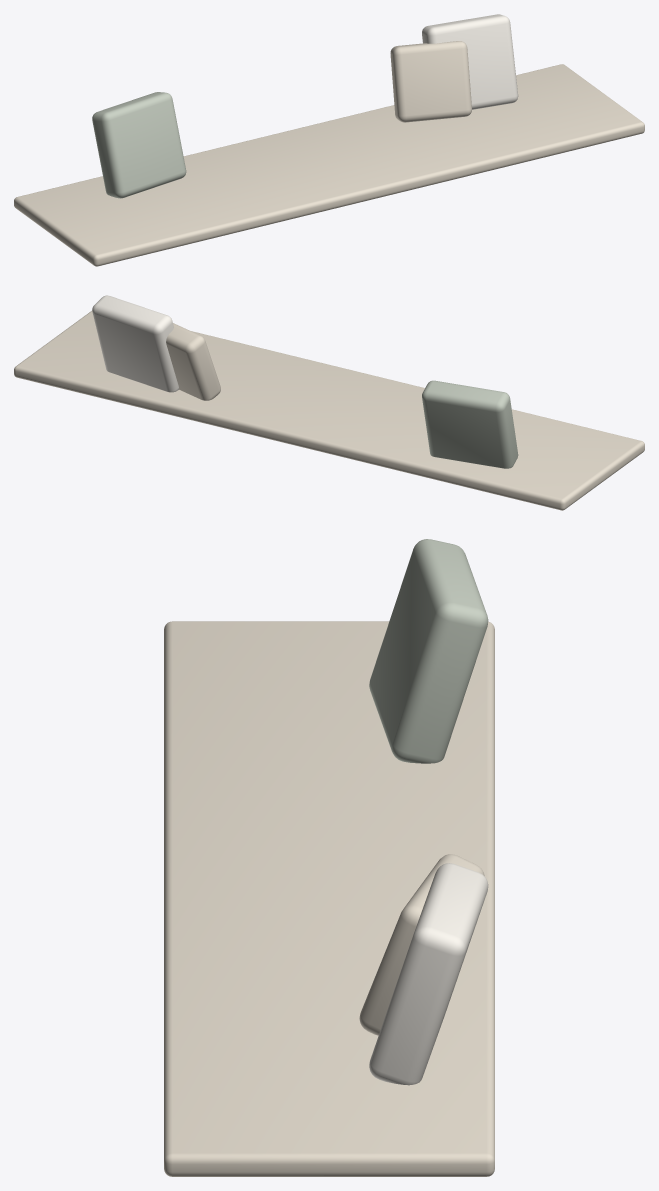
Rendered from mo_bay_cushion.glb.
The picture shows the model from 3 angles, top to bottom: view 1: azimuth 30°, elevation 25°; view 2: azimuth 150°, elevation 25°; view 3: azimuth 270°, elevation 25°; orthographic projection. The views are drawn at different scales.
Visible parts, largest first — view 1: pad, c1, c3, c2; view 2: pad, c1, c2, c3; view 3: pad, c1, c2, c3.
Boxes of the visible parts, bbox=[...] form: pad: bbox=[14, 64, 644, 266]; c1: bbox=[92, 92, 186, 198]; c3: bbox=[390, 41, 471, 122]; c2: bbox=[422, 14, 518, 109]; pad: bbox=[14, 310, 644, 510]; c1: bbox=[422, 380, 518, 468]; c2: bbox=[92, 295, 178, 392]; c3: bbox=[166, 323, 220, 400]; pad: bbox=[164, 621, 494, 1176]; c1: bbox=[369, 539, 488, 763]; c2: bbox=[369, 863, 488, 1085]; c3: bbox=[359, 854, 484, 1035].
Bounding box in the file's own units: 3 × 0.461 × 0.78.
